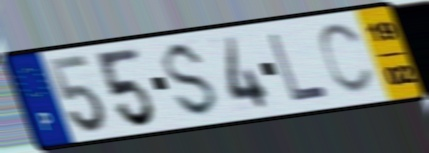4: (222, 33, 271, 112)
5: (91, 45, 157, 130), (44, 52, 110, 136)
C: (316, 20, 377, 97)
L: (264, 31, 331, 104)
S: (161, 39, 222, 121)
